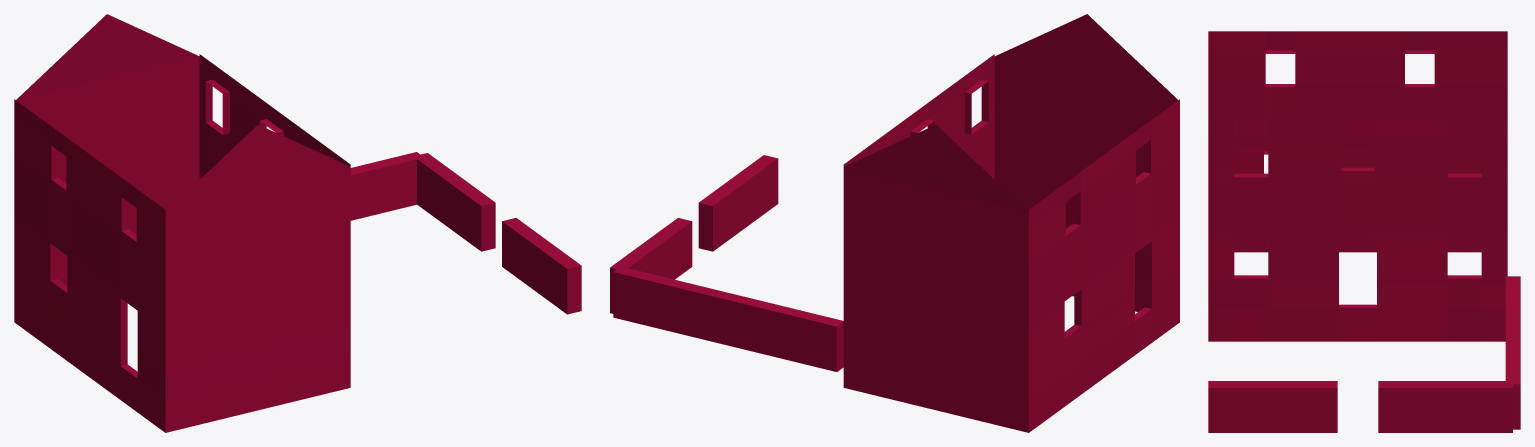
Rendered from SM_Bld_090_Masonry.glb.
3 views of the same model, side by side, from view 1: azimuth 30°, elevation 25°; view 2: azimuth 150°, elevation 25°; view 3: azimuth 270°, elevation 25° (orthographic).
Visible parts, largest first — view 1: SM_Bld_090_Masonry; view 2: SM_Bld_090_Masonry; view 3: SM_Bld_090_Masonry.
Part boxes in pixels (bbox=[...]): SM_Bld_090_Masonry: bbox=[14, 14, 581, 432]; SM_Bld_090_Masonry: bbox=[610, 14, 1179, 432]; SM_Bld_090_Masonry: bbox=[1208, 31, 1520, 432].
Bounding box in the file's own units: 12.82 × 8.41 × 8.41.
